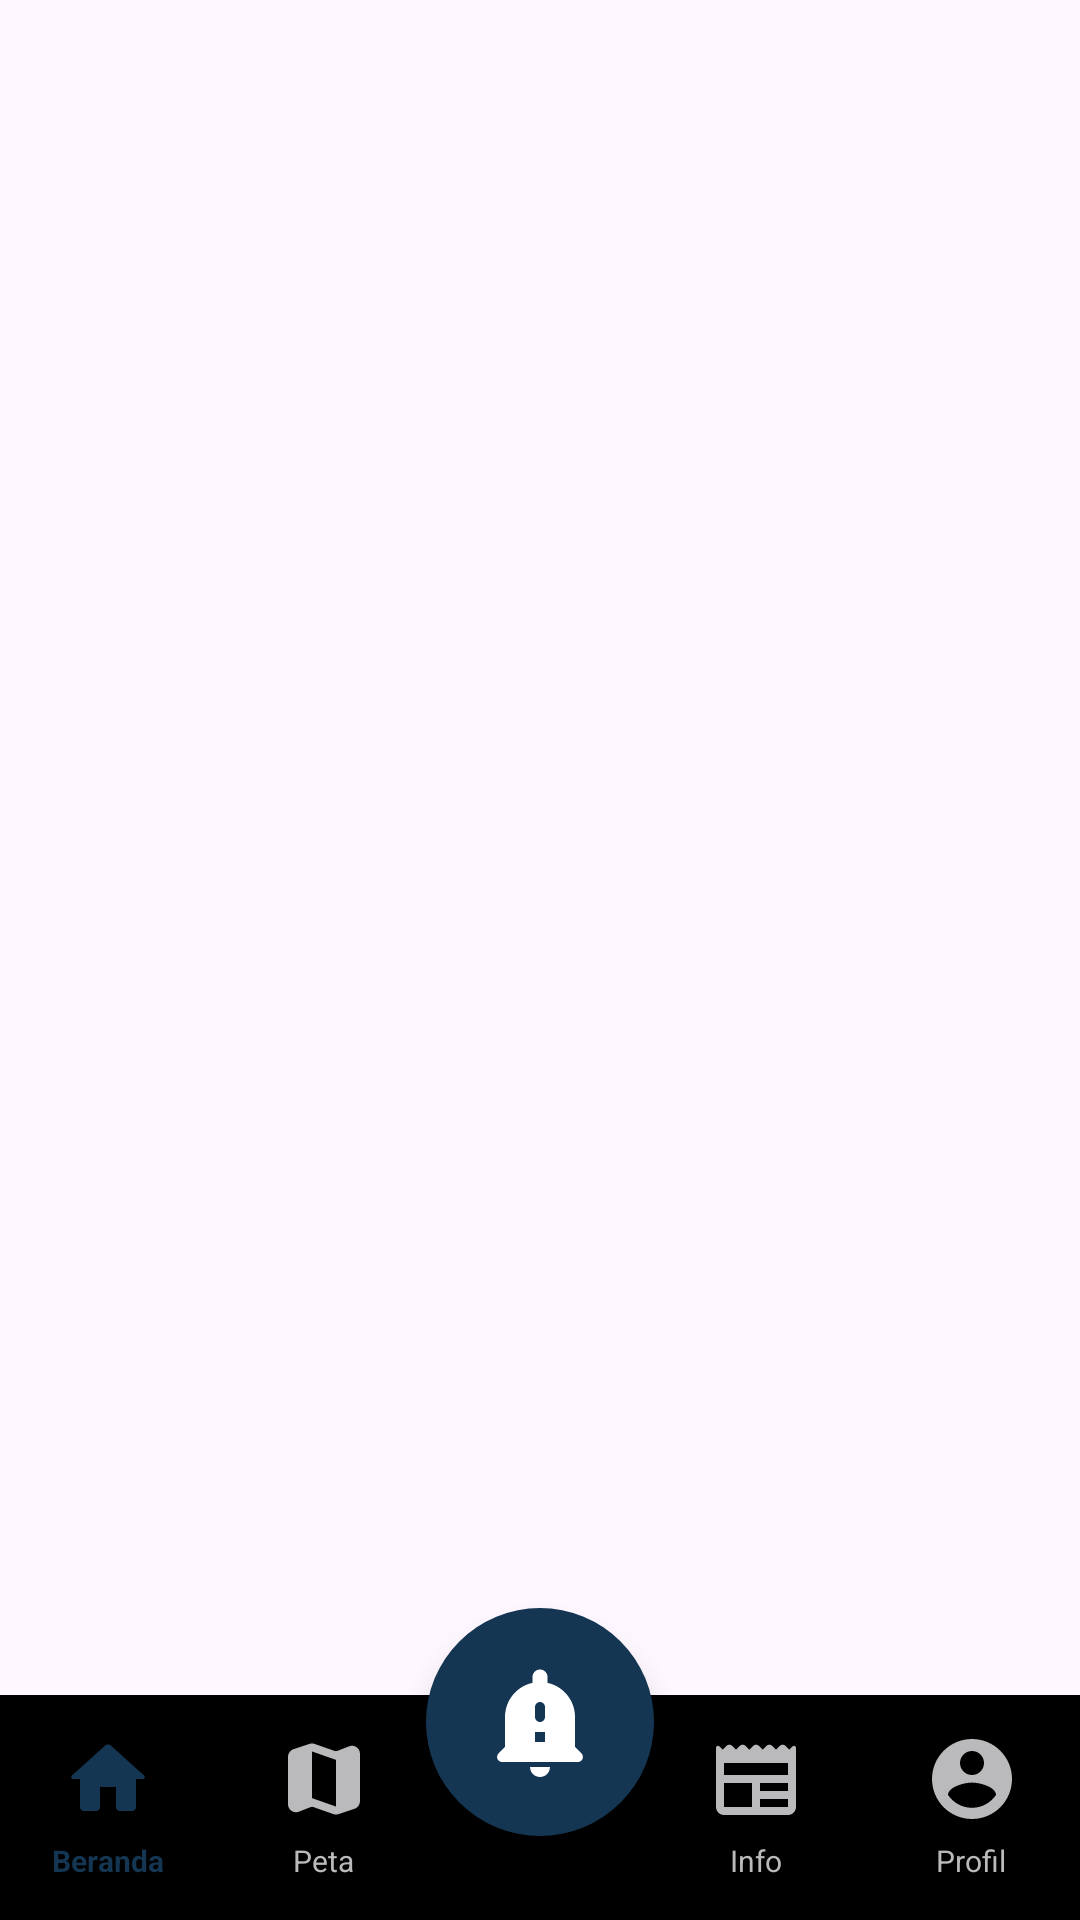

Screen size 1080 x 1920. Icon name, then its center in pixels as (x,y):
report: (540,1722)
